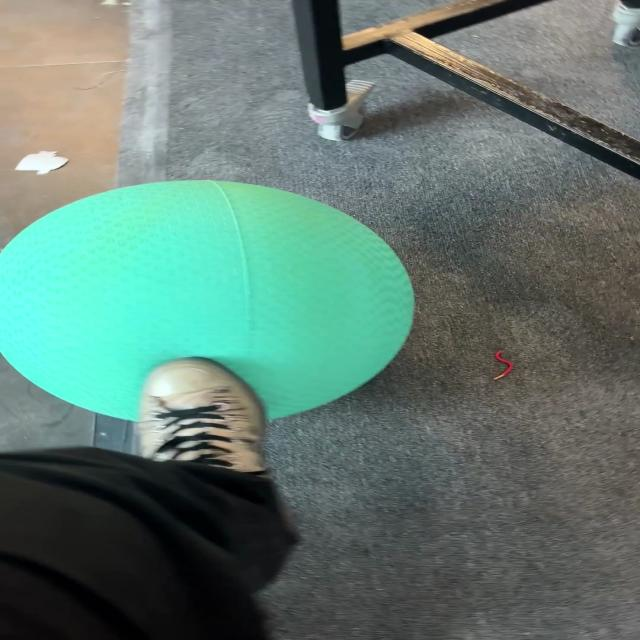Algae: (1, 179, 416, 423)
